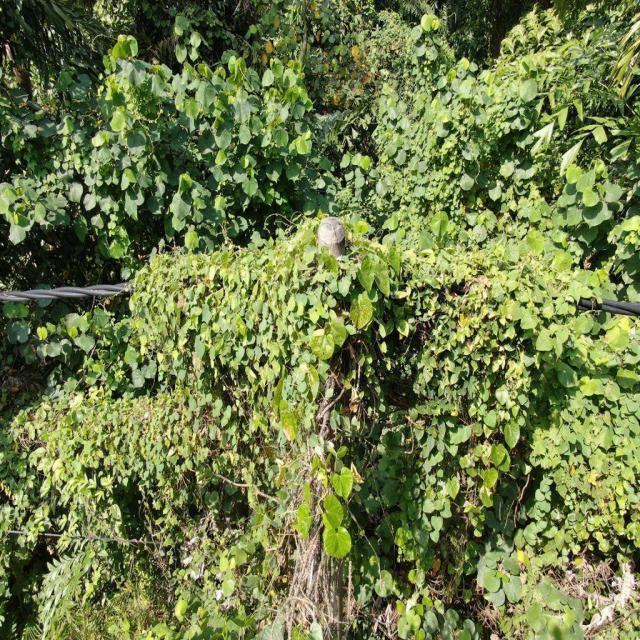critical vegetation: (79, 213, 616, 462)
